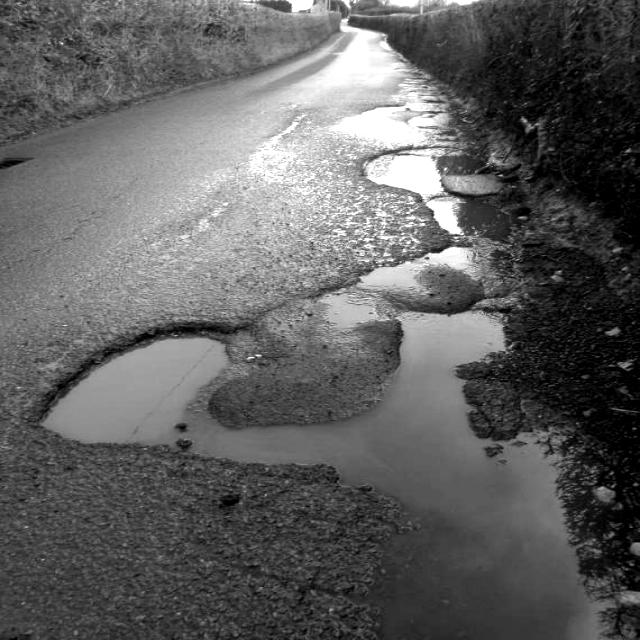pathole: (41, 306, 640, 640), (354, 67, 565, 338)
